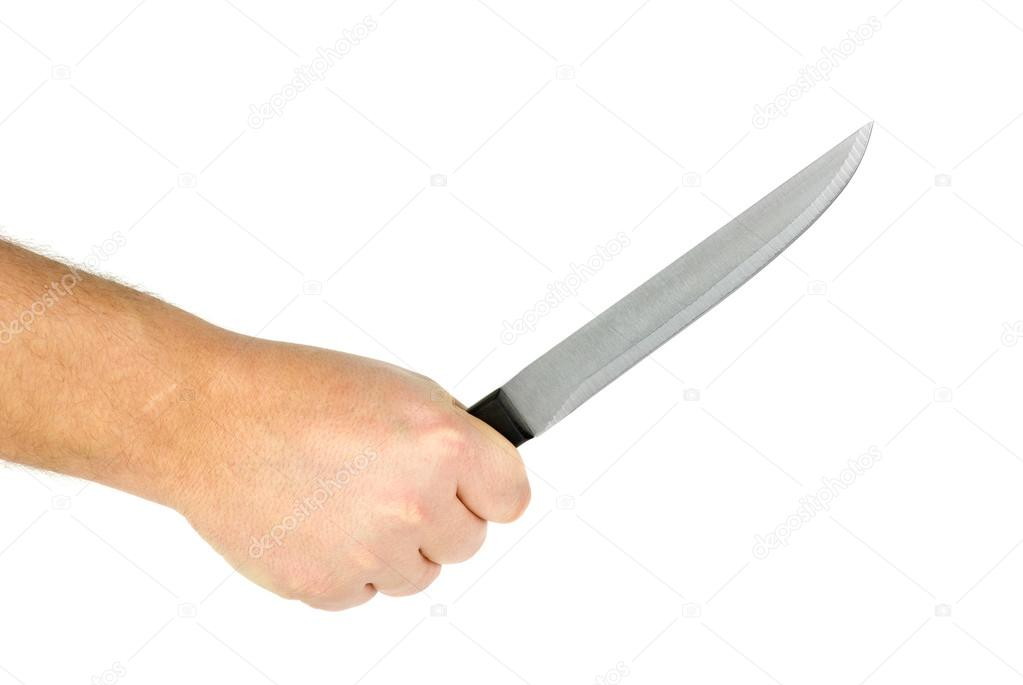knife: (324, 110, 893, 607)
